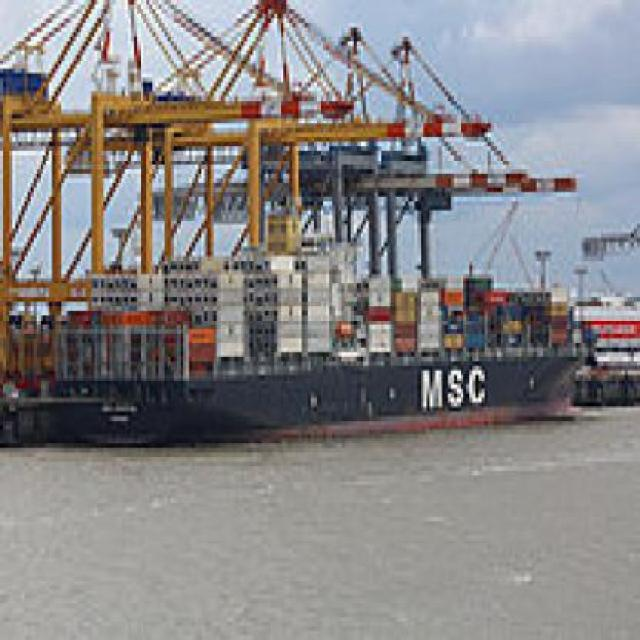container: (16, 230, 596, 473)
